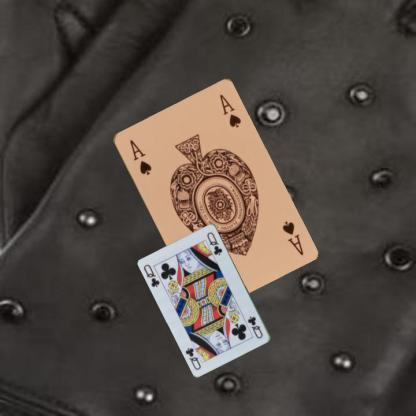As: (126, 137, 152, 176), (279, 218, 305, 256)
Qc: (141, 262, 161, 288), (245, 314, 264, 340)
